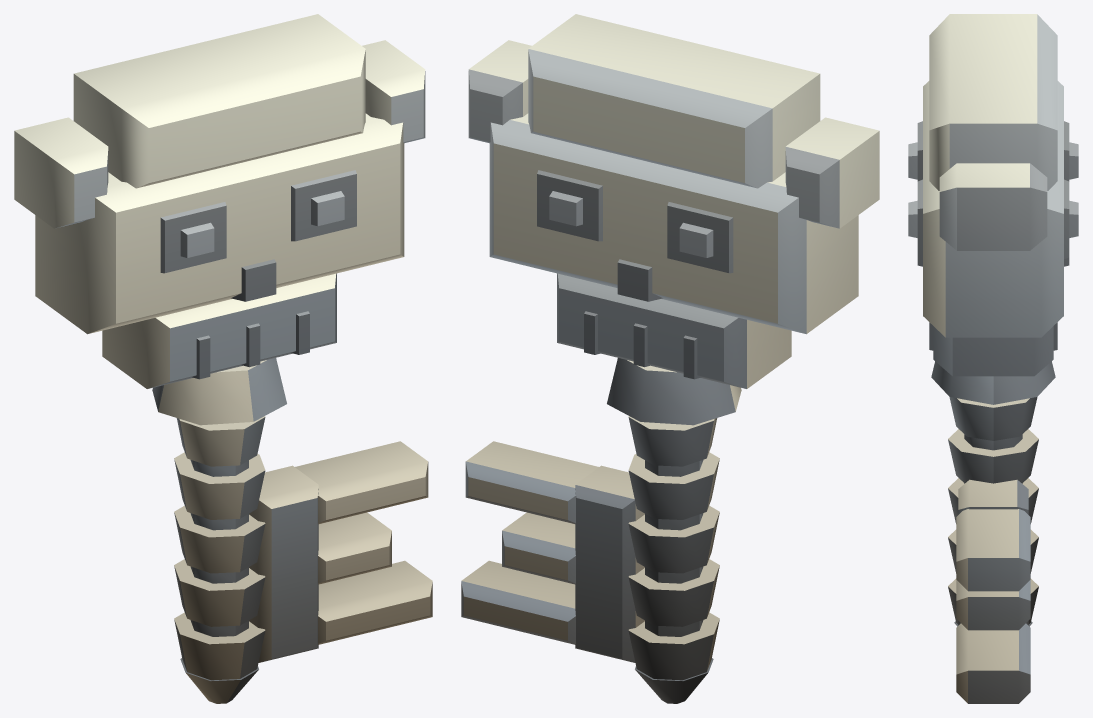
File: key_bone_skull.glb
3 views of the same model, side by side, from view 1: azimuth 30°, elevation 25°; view 2: azimuth 150°, elevation 25°; view 3: azimuth 270°, elevation 25° (orthographic). The views are drawn at different scales.
Parts seen in each view (by area): view 1: Item; view 2: Item; view 3: Item.
Part boxes in pixels (x1,y1,x2,y2): Item: (14,14,432,703); Item: (461,14,879,703); Item: (908,14,1078,703).
Bounding box in the file's own units: 0.48 × 0.76 × 0.2.
2 materials, 2 textured.
